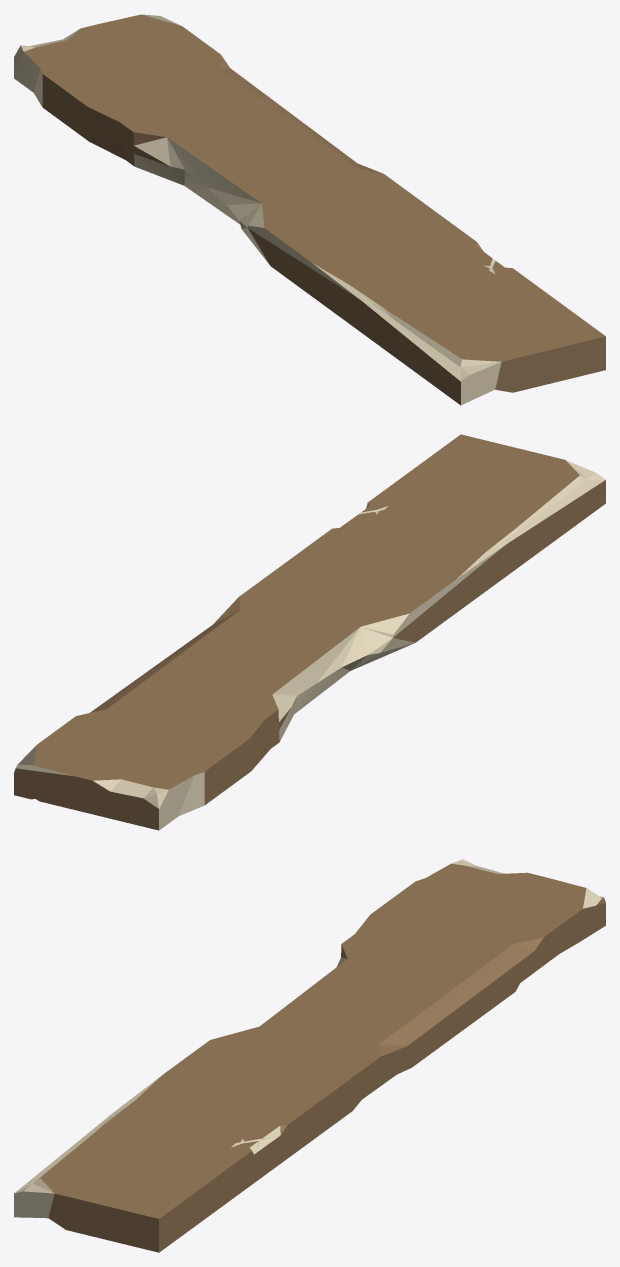
Rendered from Plank2.fbx.
3 views of the same model, one above another, from view 1: azimuth 30°, elevation 25°; view 2: azimuth 150°, elevation 25°; view 3: azimuth 330°, elevation 25° (orthographic).
Visible parts, largest first — view 1: 2; view 2: 2; view 3: 2.
Boxes of the visible parts, x1,y1,x2,y2 form: 2: (14, 14, 605, 405); 2: (14, 434, 605, 830); 2: (14, 859, 605, 1252).
Size of the model in its own units: 47.62 by 10.3 by 240.
